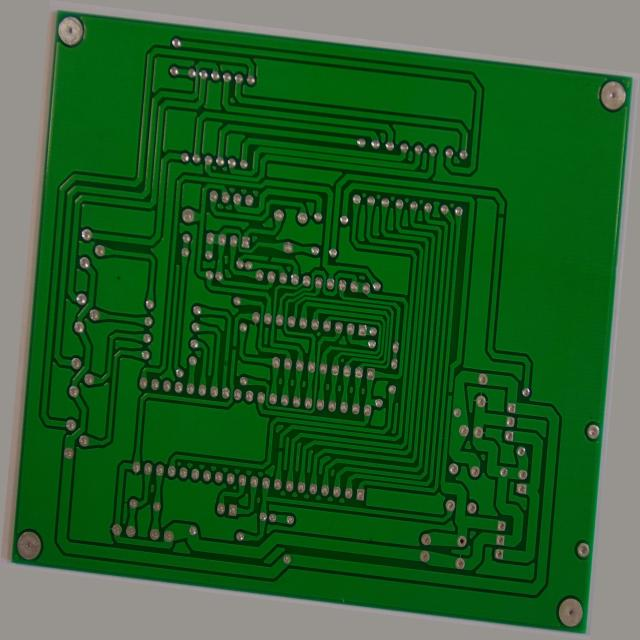open_circuit: (253, 253, 265, 264), (285, 465, 294, 477), (500, 172, 509, 183), (462, 379, 470, 389), (227, 358, 234, 368)
